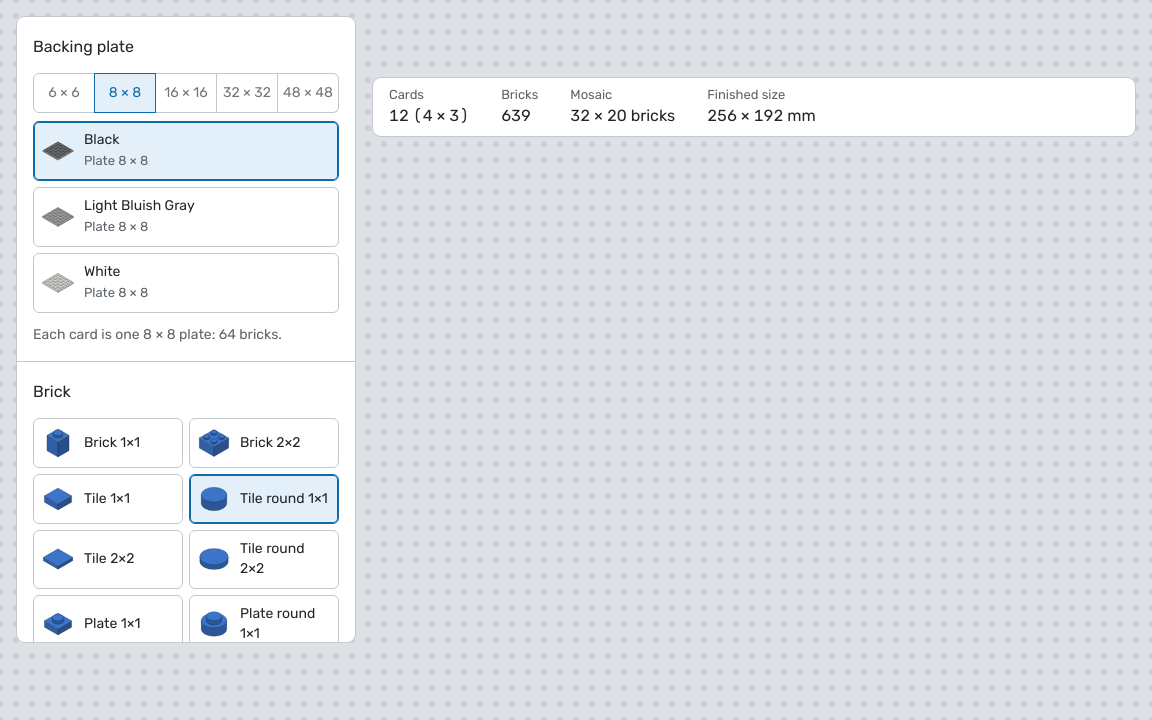
it: Bricks step › changes the plate size, keeping its colour when that size comes in it
Check: the element named "Tools" is shown, box [16,16,356,643]
Click the button named "16 by 16 studs": (186, 93) [155,73,217,113]
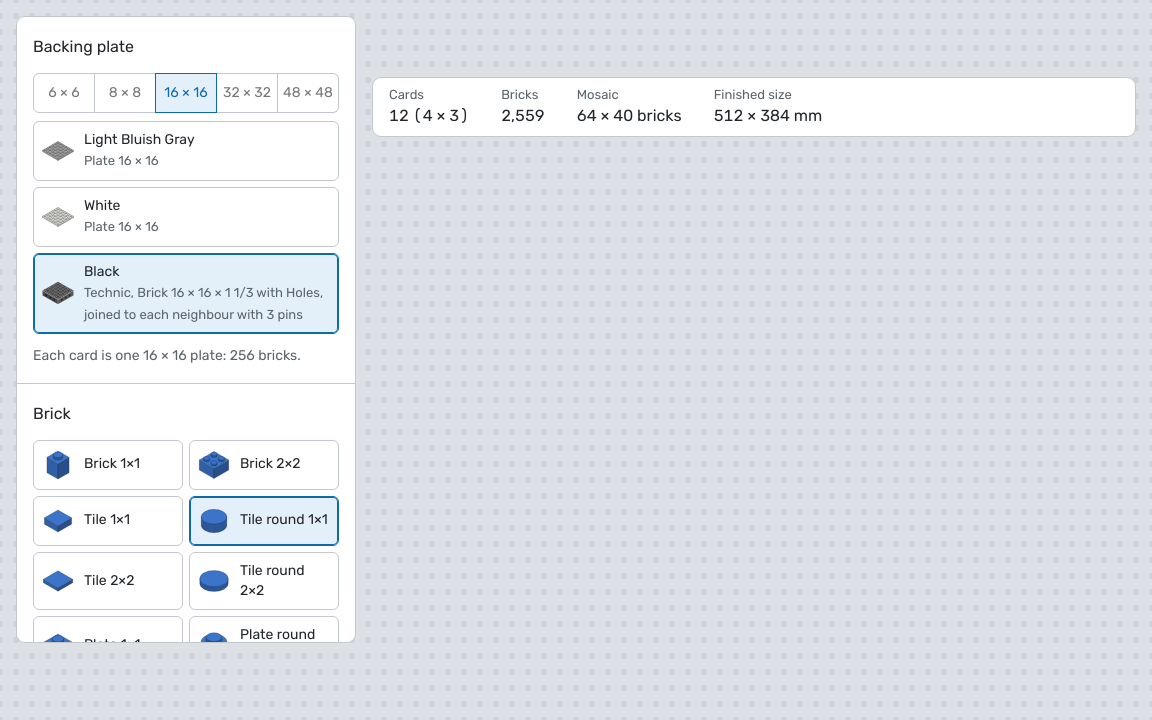
Check: the button that starts with "Black" is pressed, box [33,253,339,334]
// no black 32×32, so the first 32×32 plate instead
Click the button named "32 by 32 studs": (247, 93) [216,73,278,113]
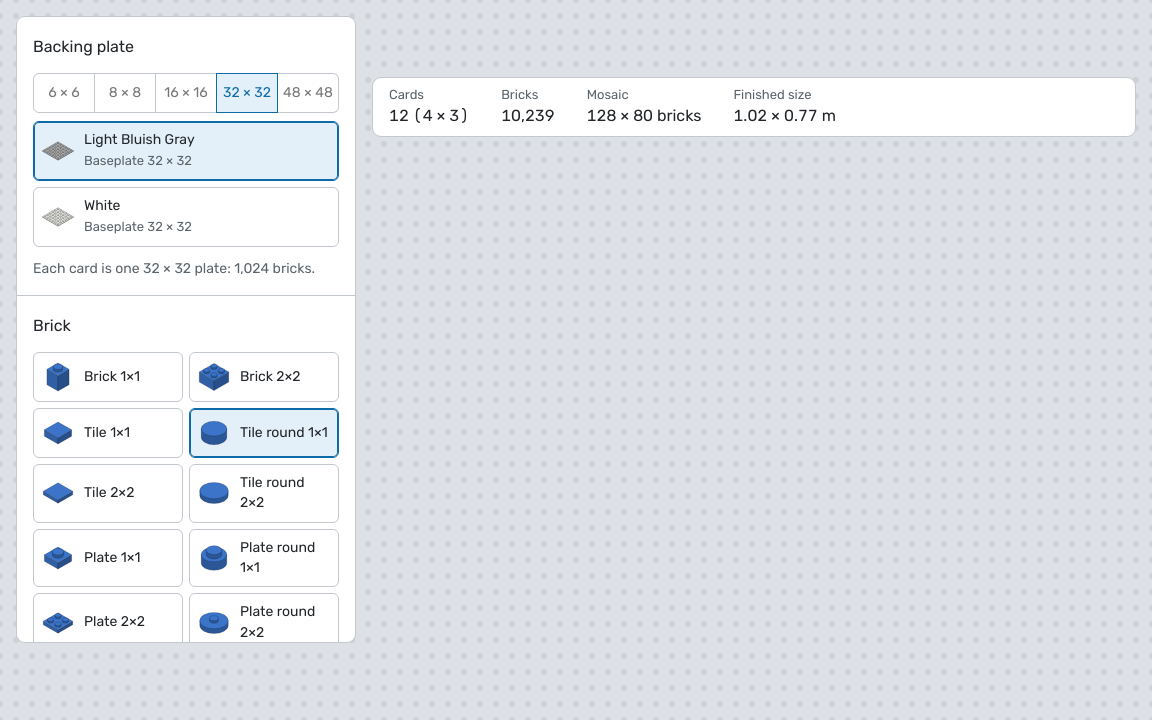
Click the button "White Baseplate 32 × 32": (186, 217) [33,187,339,247]
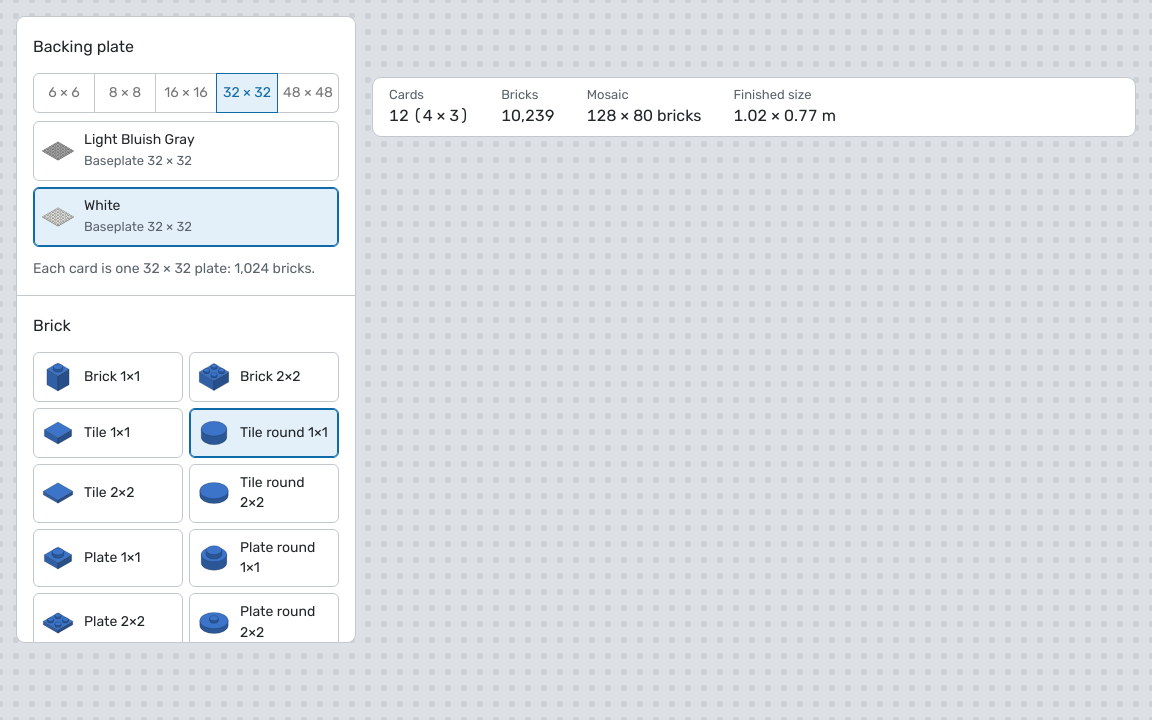
Check: the button "White Baseplate 32 × 32" is pressed, box [33,187,339,247]
